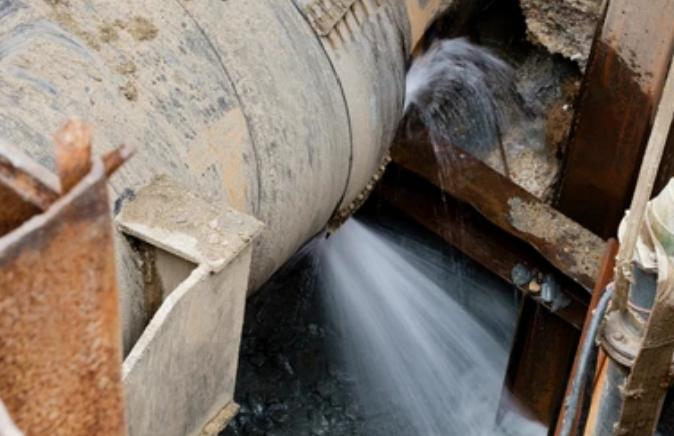pipe burst: (301, 205, 540, 436), (399, 36, 529, 201)
